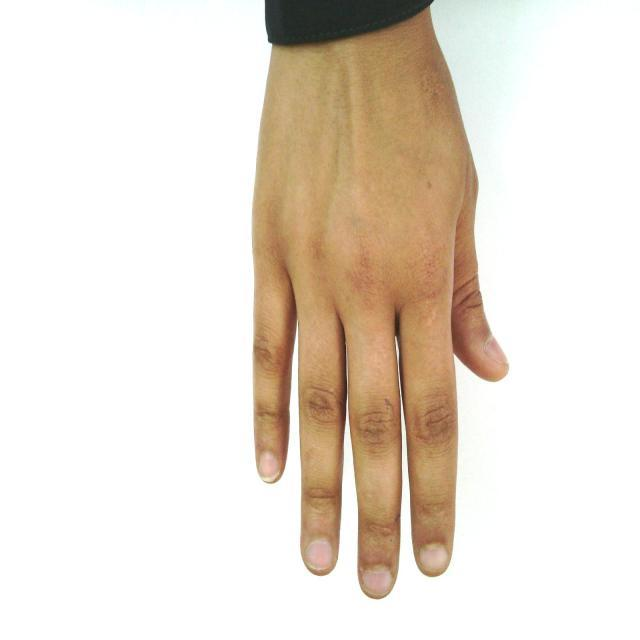Fingernail: (420, 545, 448, 573), (306, 540, 332, 570), (364, 569, 391, 596), (486, 338, 507, 366), (260, 453, 279, 481)
